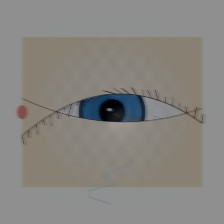foreign_body_visible: (129, 117, 161, 143)
